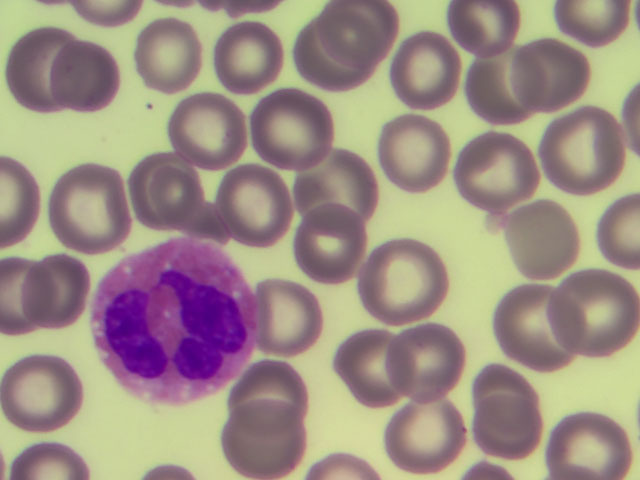RBC: (296, 2, 397, 86), (545, 110, 620, 190), (548, 407, 629, 480), (135, 14, 211, 90), (212, 22, 288, 98), (169, 94, 245, 170), (251, 88, 327, 164), (138, 148, 214, 224), (53, 170, 129, 246), (5, 257, 81, 333), (5, 353, 81, 429), (224, 404, 300, 480), (237, 353, 313, 429), (256, 276, 332, 352), (287, 209, 363, 285), (302, 147, 378, 223), (217, 165, 293, 241), (366, 241, 442, 317), (333, 333, 409, 409), (387, 316, 463, 392), (385, 394, 461, 470), (469, 372, 545, 448), (495, 280, 571, 356), (556, 272, 632, 348), (505, 198, 581, 274), (460, 130, 536, 206), (379, 117, 455, 193), (384, 35, 460, 111), (461, 47, 531, 124), (526, 40, 596, 117), (9, 30, 70, 102), (53, 41, 114, 113), (443, 1, 516, 56), (559, 1, 628, 46), (600, 196, 640, 269)
WBC: (94, 242, 250, 395)
